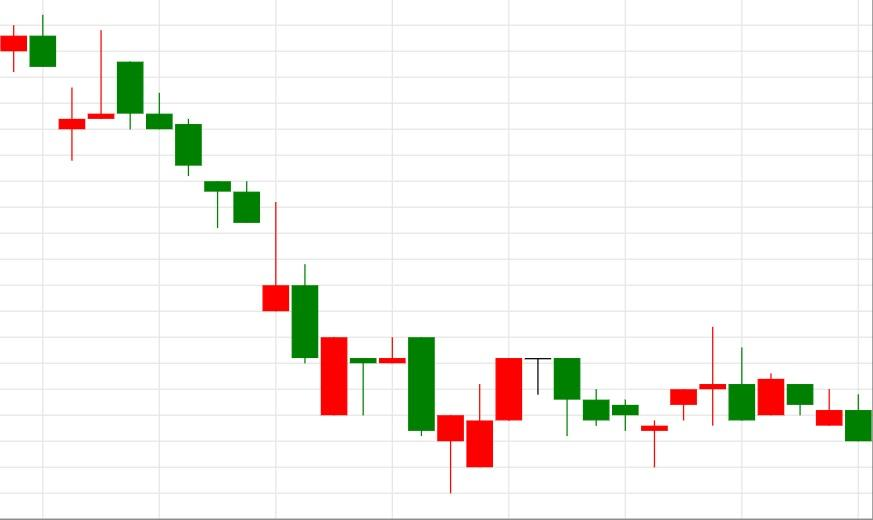evening_star_fall: (436, 357, 581, 493)
inverse_hammer_rise: (116, 60, 291, 313)
